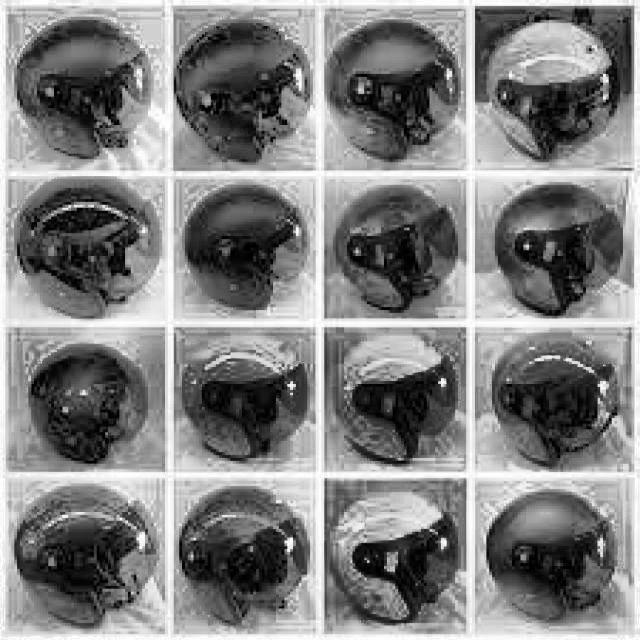Helmet: (10, 484, 162, 640), (11, 178, 164, 325), (482, 17, 628, 168), (15, 19, 156, 167), (178, 17, 315, 166), (179, 481, 314, 628), (322, 491, 464, 628), (482, 487, 622, 625), (492, 181, 628, 319), (488, 334, 624, 472), (331, 21, 459, 161), (328, 185, 458, 313), (333, 336, 461, 464), (182, 333, 308, 460), (184, 184, 309, 311), (31, 346, 149, 468)
